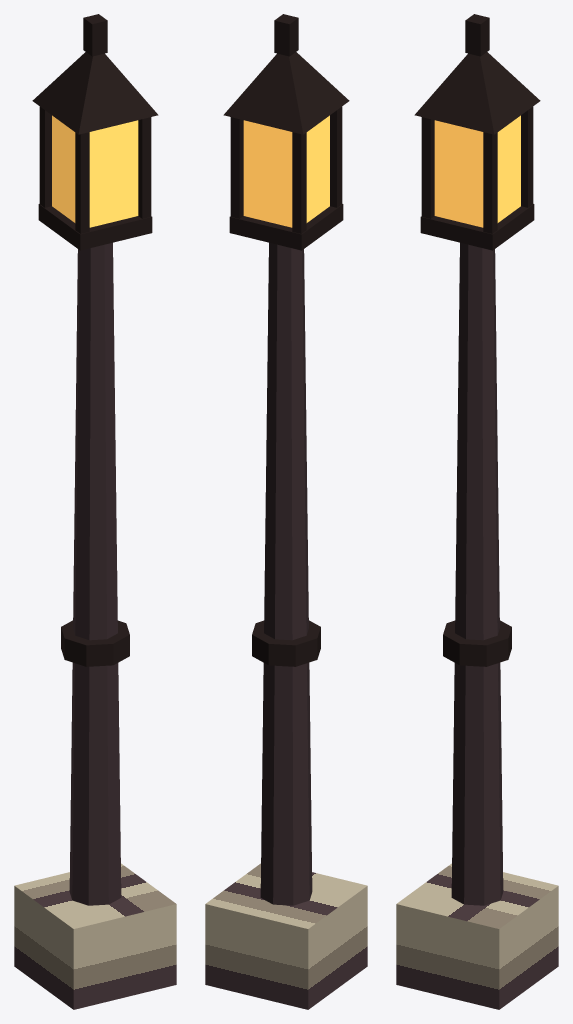
The model's file is lamp_post.glb.
The picture shows the model from 3 angles, left to right: view 1: azimuth 30°, elevation 25°; view 2: azimuth 150°, elevation 25°; view 3: azimuth 330°, elevation 25°; orthographic projection.
Parts seen in each view (by area): view 1: lamp_post; view 2: lamp_post; view 3: lamp_post.
Boxes of the visible parts, x1,y1,x2,y2 form: lamp_post: (14, 14, 176, 1009); lamp_post: (205, 14, 367, 1009); lamp_post: (396, 14, 558, 1009).
Bounding box in the file's own units: 0.4 × 3.55 × 0.4.
Materials: 3 (1 with a texture image).
